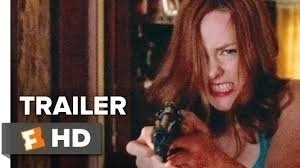pistol: (150, 105, 190, 161)
